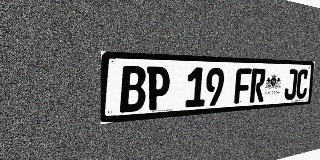1: (185, 67, 207, 108)
9: (205, 68, 225, 106)
B: (120, 66, 146, 113)
C: (295, 69, 309, 99)
F: (234, 68, 252, 104)
J: (284, 69, 298, 100)
P: (146, 66, 170, 111)
R: (249, 68, 266, 103)
